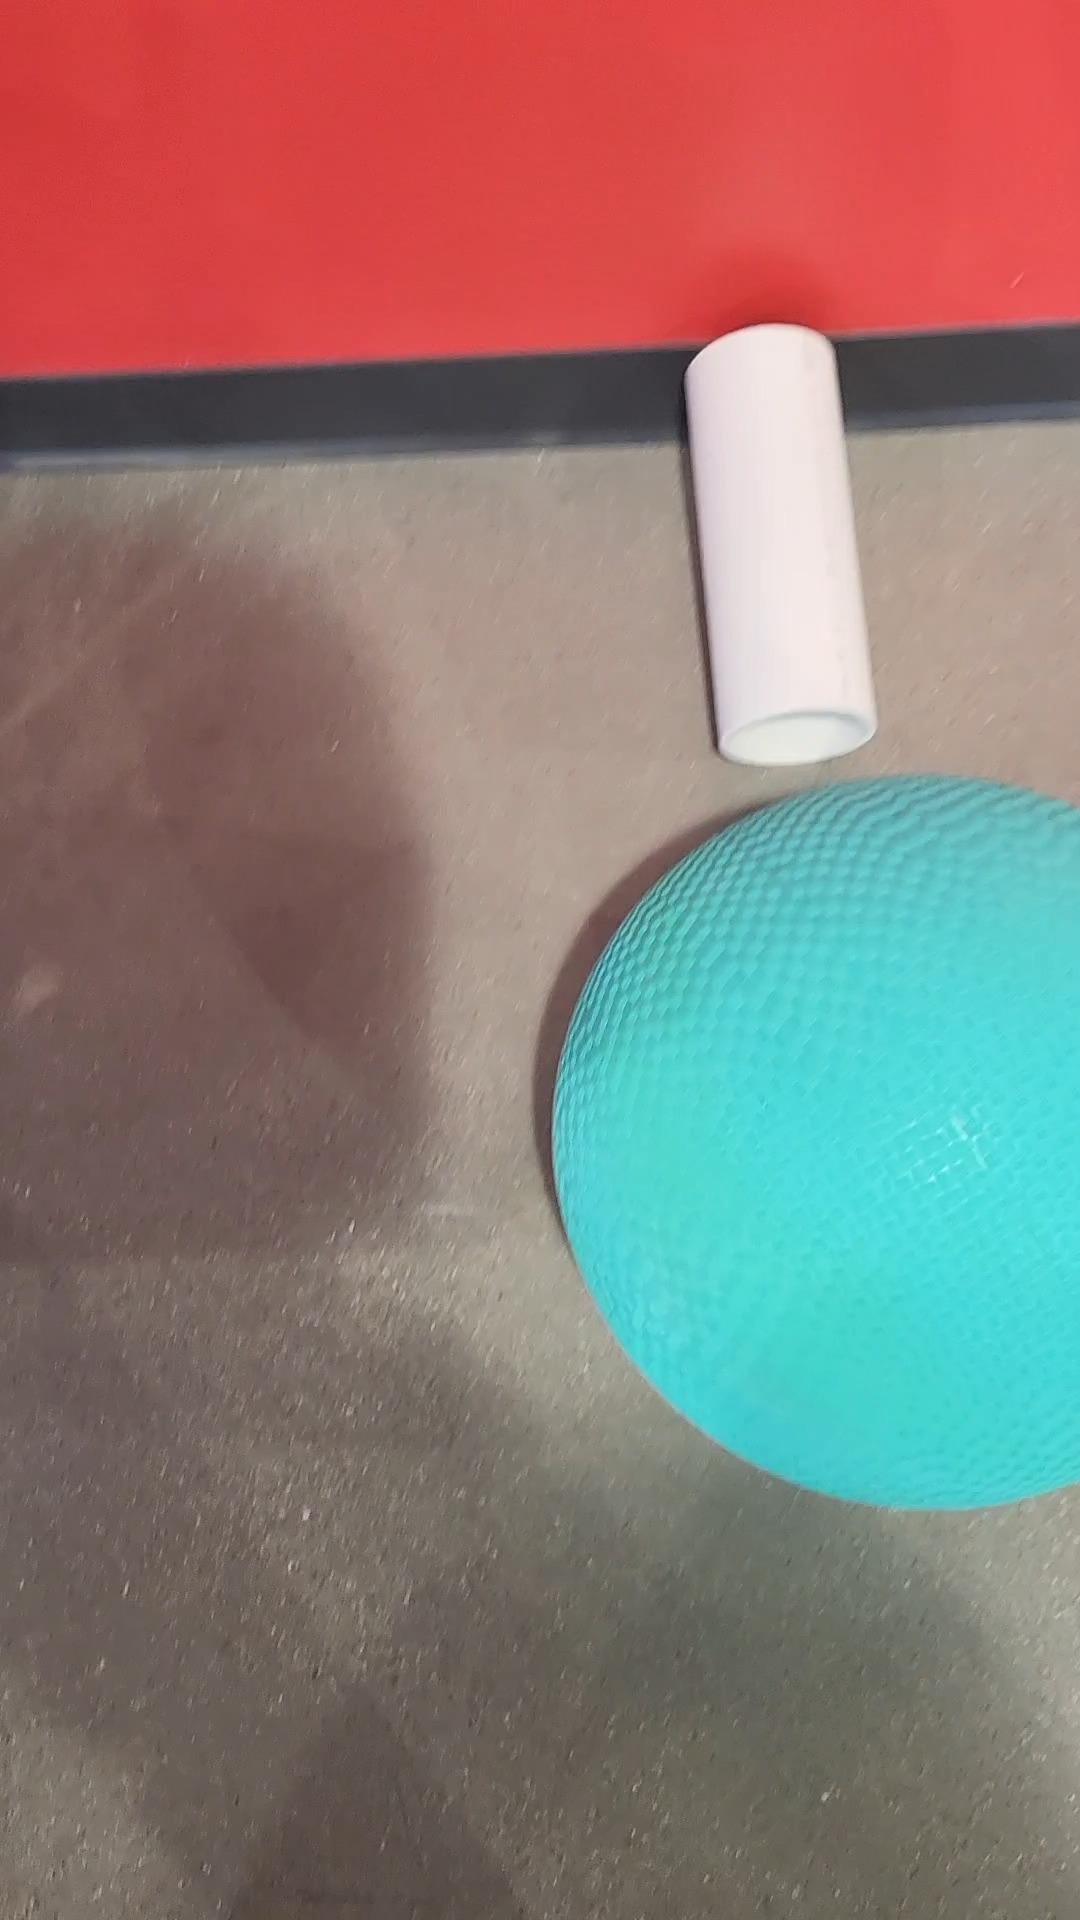algae: (465, 756, 1080, 1536)
coral: (636, 295, 943, 765)
